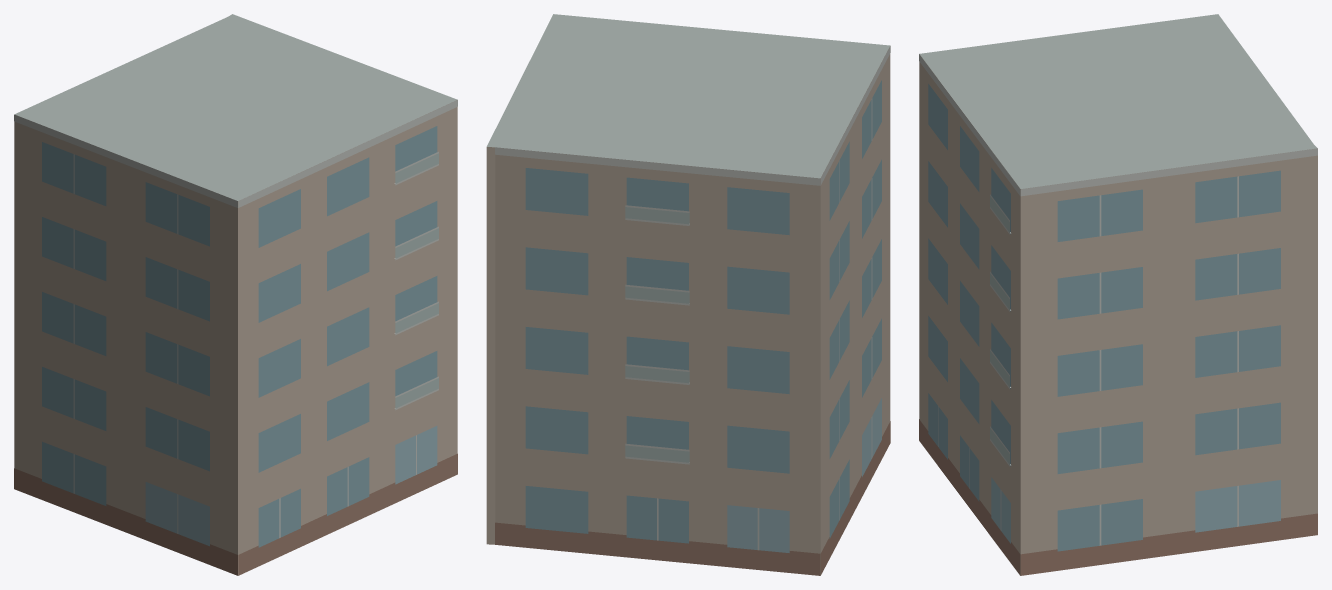
File: survey-upis-32605518.glb
3 views of the same model, side by side, from view 1: azimuth 30°, elevation 25°; view 2: azimuth 150°, elevation 25°; view 3: azimuth 270°, elevation 25° (orthographic). The views are drawn at different scales.
Visible parts, largest first — view 1: survey-upis-32605518.tmp; view 2: survey-upis-32605518.tmp; view 3: survey-upis-32605518.tmp.
Part boxes in pixels (box(x1,y1,x2,y2)): survey-upis-32605518.tmp: box(14, 14, 457, 575); survey-upis-32605518.tmp: box(486, 14, 890, 575); survey-upis-32605518.tmp: box(919, 14, 1317, 575).
Bounding box in the file's own units: 12.64 × 13 × 12.15.
